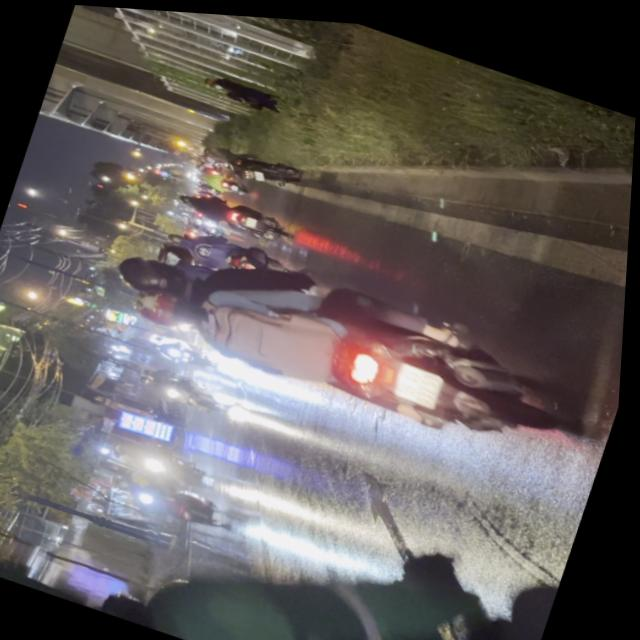helmet: (112, 241, 204, 307), (126, 277, 206, 336)
licenseplate: (0, 373, 580, 640), (86, 200, 625, 481)
nohelmet: (397, 355, 450, 402)
